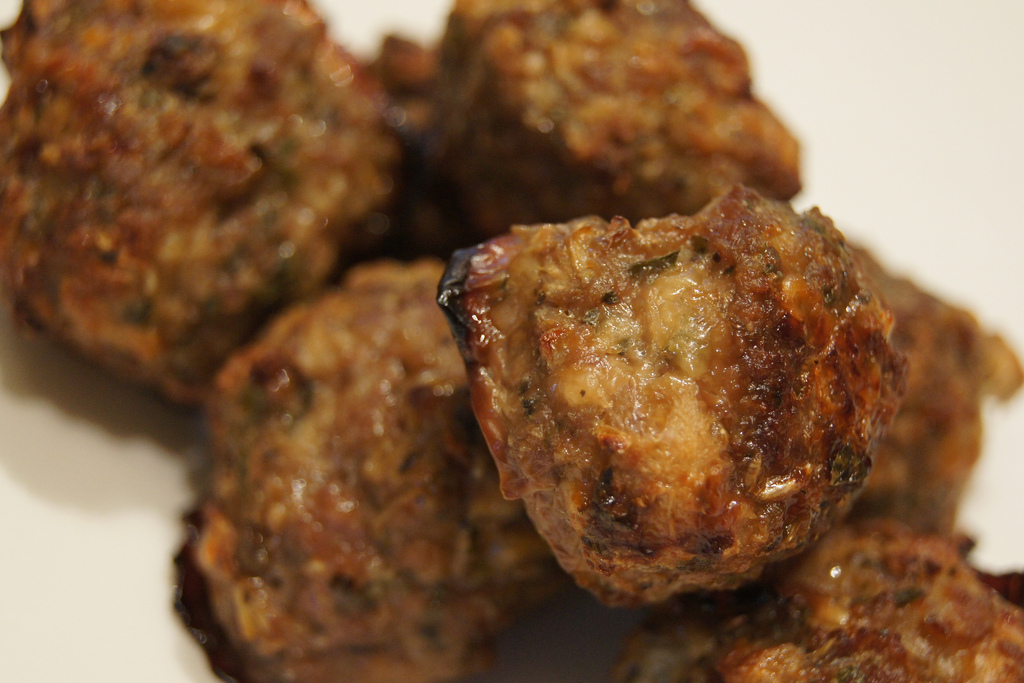meatballs: (442, 230, 889, 568), (10, 5, 376, 362)
